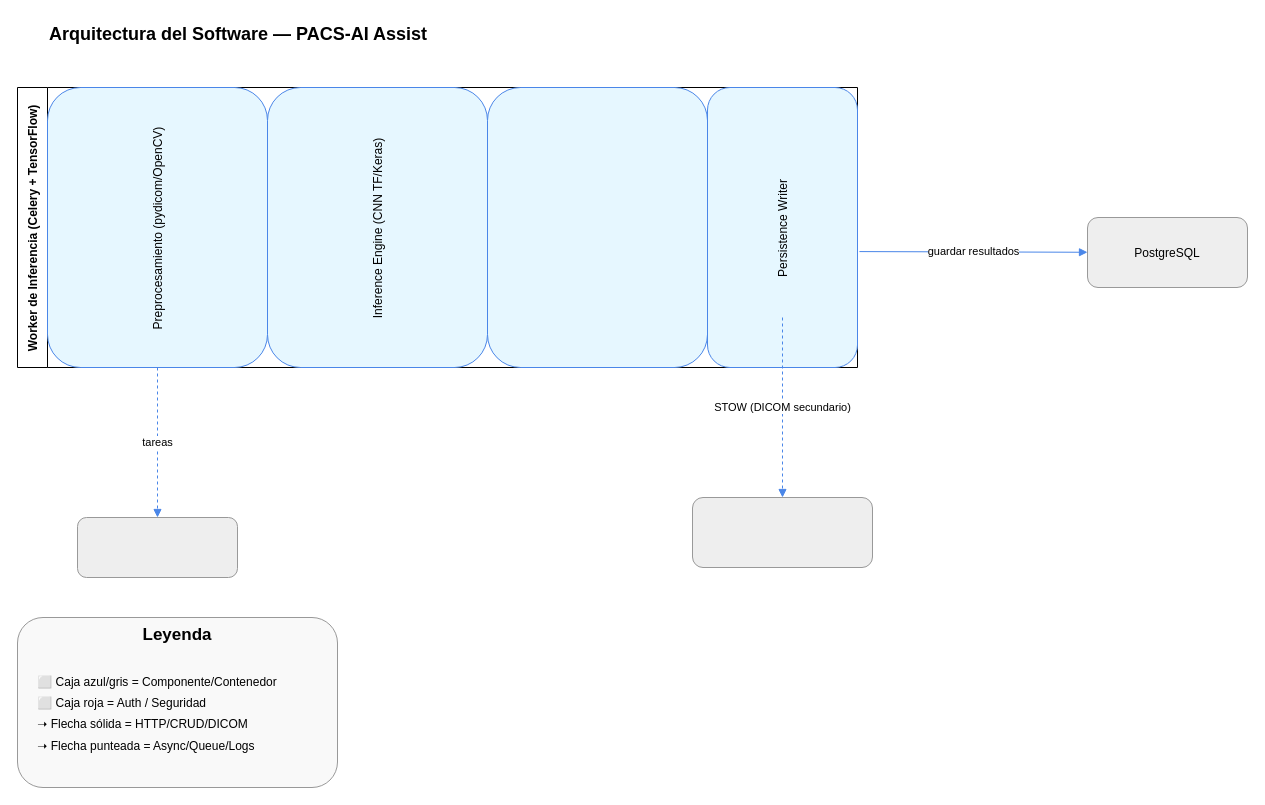
This 1265x805 diagram has some shape labels left out. The box of each missing label's shape, as (x1, y1, x2, y2) in pixels:
Backend (STOW opc.): (692, 496, 872, 568)
Postprocesamiento (overlays/masks): (486, 86, 708, 368)
Redis (Broker): (76, 516, 238, 578)
